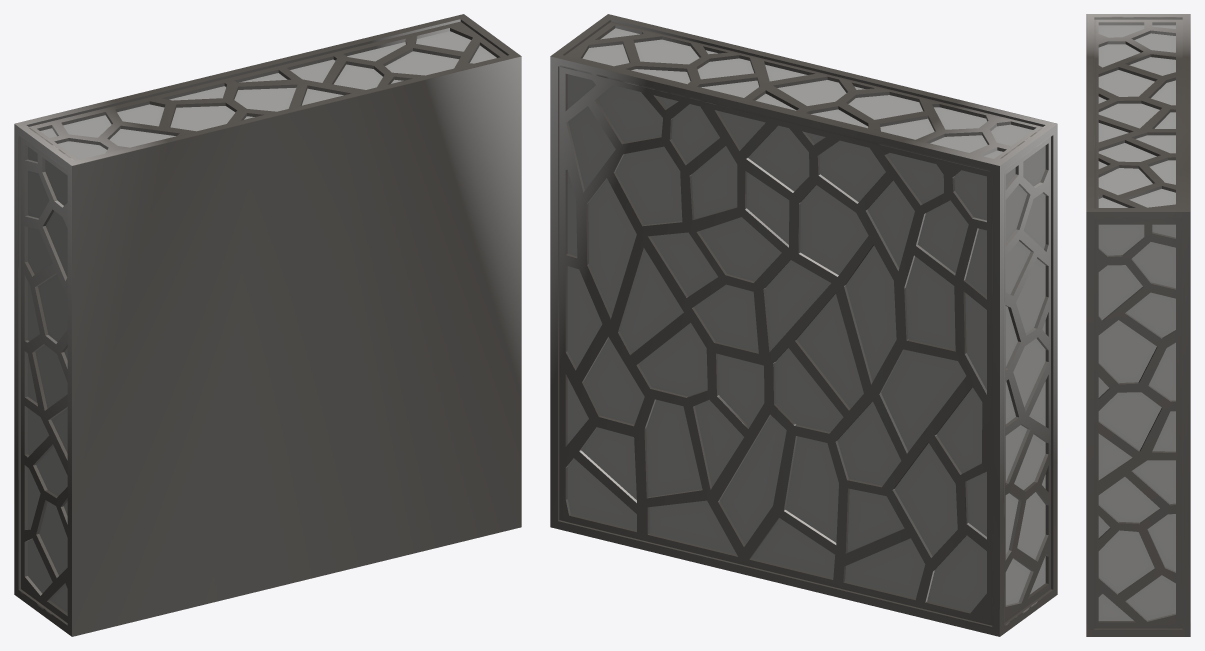
File: raw_model.glb
3 renders of one model, left to right at view 1: azimuth 30°, elevation 25°; view 2: azimuth 150°, elevation 25°; view 3: azimuth 270°, elevation 25°, orthographic. The views are drawn at different scales.
Parts seen in each view (by area): view 1: raw_model.010; view 2: raw_model.010; view 3: raw_model.010.
Part boxes in pixels (x1=…): raw_model.010: x1=14, y1=14, x2=521, y2=636; raw_model.010: x1=550, y1=14, x2=1057, y2=636; raw_model.010: x1=1086, y1=14, x2=1190, y2=636.
Bounding box in the file's own units: 0.583 × 0.5834 × 0.13.
Materials: 1 (1 with a texture image).
